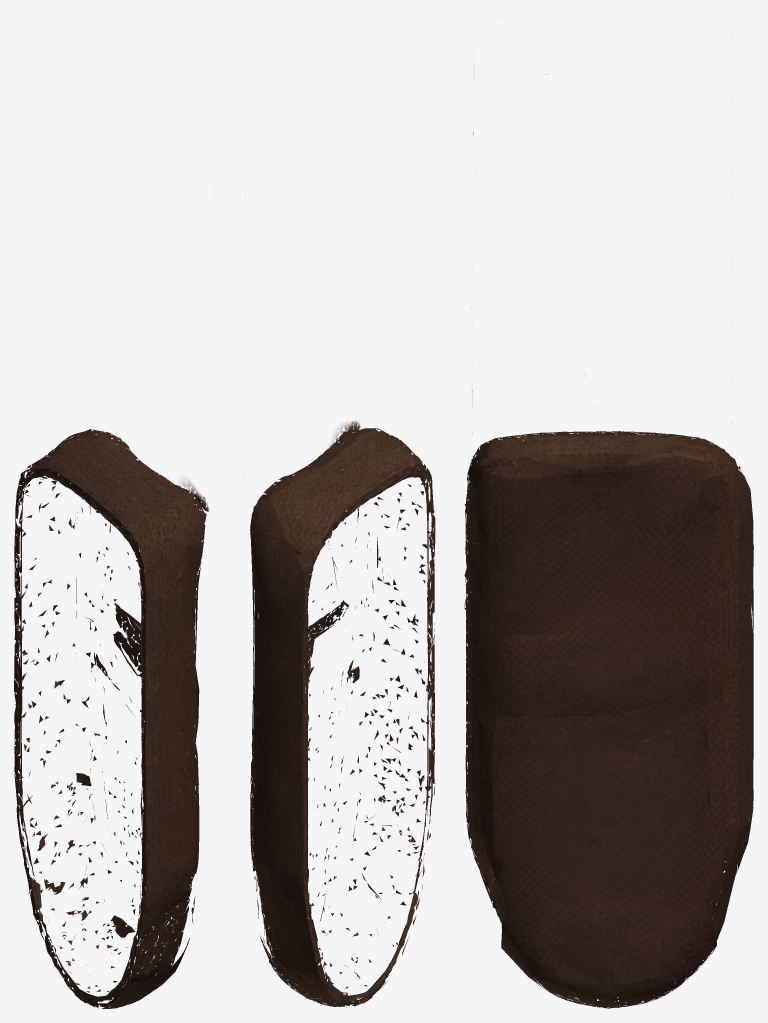
Rendered from rock_1788544685_30692888.glb.
The picture shows the model from 3 angles, left to right: view 1: azimuth 30°, elevation 25°; view 2: azimuth 150°, elevation 25°; view 3: azimuth 270°, elevation 25°; orthographic projection. The views are drawn at different scales.
Parts seen in each view (by area): view 1: Hero; view 2: Hero; view 3: Hero.
Boxes of the visible parts, box(x1,y1,x2,y2) form: Hero: box(14, 429, 208, 1008); Hero: box(250, 421, 435, 1007); Hero: box(464, 74, 753, 1008).
Size of the model in its own units: 0.1097 by 1 by 0.2592.
1 material, 1 textured.
